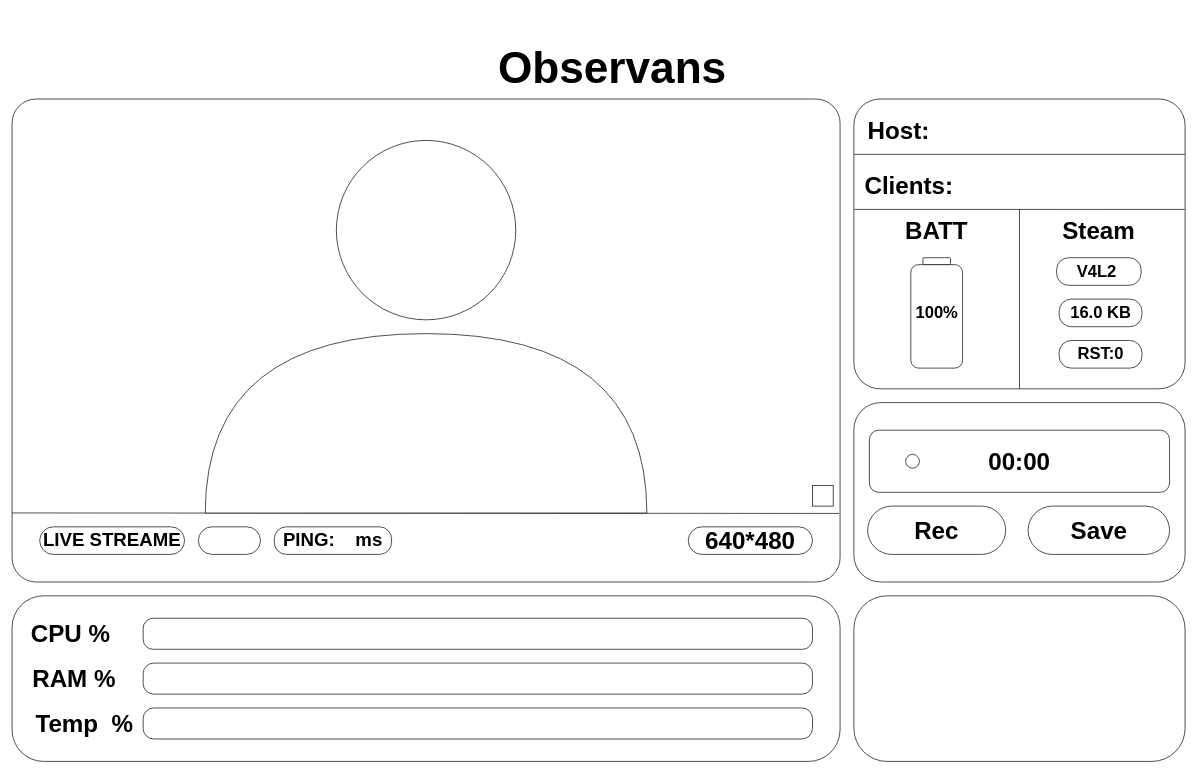
The diagram is 1198 pixels wide and 773 high, and some of its shapes have lost their labels. Each missing label, with the centre of its shape:
"FPS:" belongs at point (229, 540).
"Version and other information" belongs at point (1019, 678).
